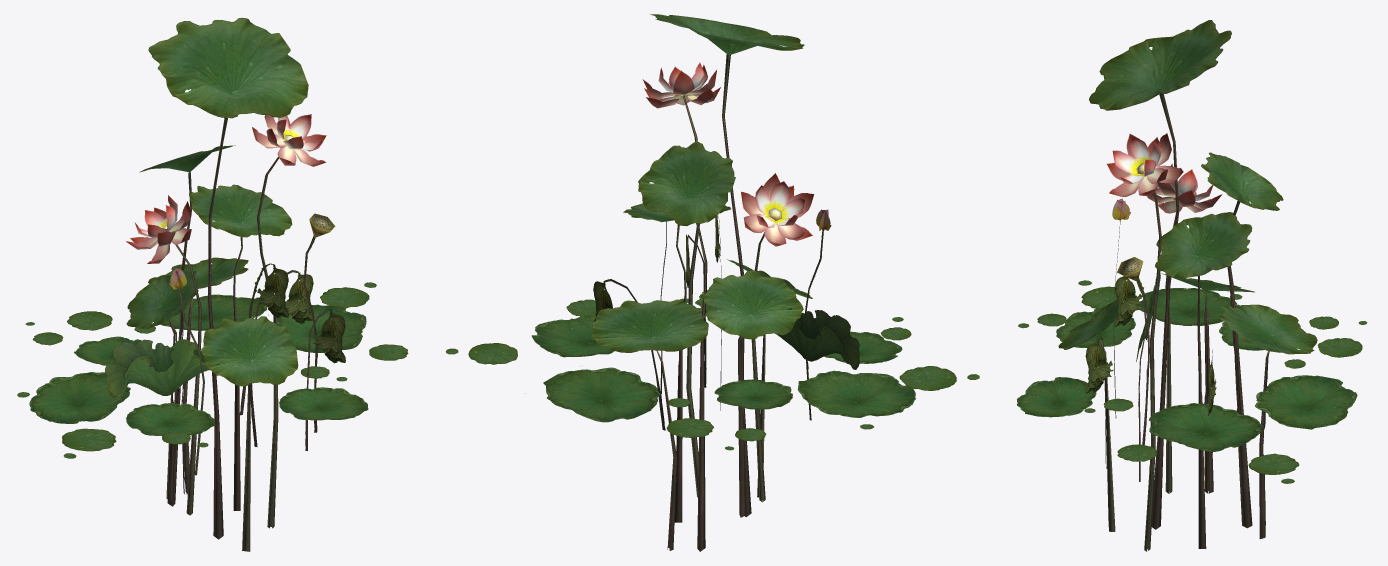
Rendered from ZYtree_gg_xinhehua01.FBX.
The picture shows the model from 3 angles, left to right: view 1: azimuth 30°, elevation 25°; view 2: azimuth 150°, elevation 25°; view 3: azimuth 270°, elevation 25°; orthographic projection. The views are drawn at different scales.
Visible parts, largest first — view 1: ZYtree_gg_xinhehua01; view 2: ZYtree_gg_xinhehua01; view 3: ZYtree_gg_xinhehua01.
Boxes of the visible parts, x1=… form: ZYtree_gg_xinhehua01: x1=17, y1=17, x2=408, y2=551; ZYtree_gg_xinhehua01: x1=446, y1=14, x2=979, y2=551; ZYtree_gg_xinhehua01: x1=1017, y1=20, x2=1367, y2=551.
Size of the model in its own units: 591 by 668 by 442.
